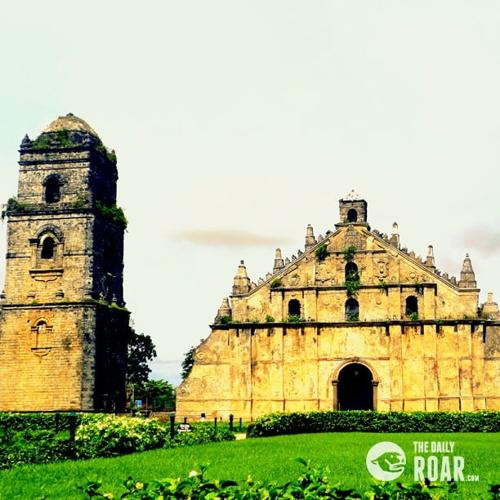Paoay Church: (6, 106, 496, 432)
